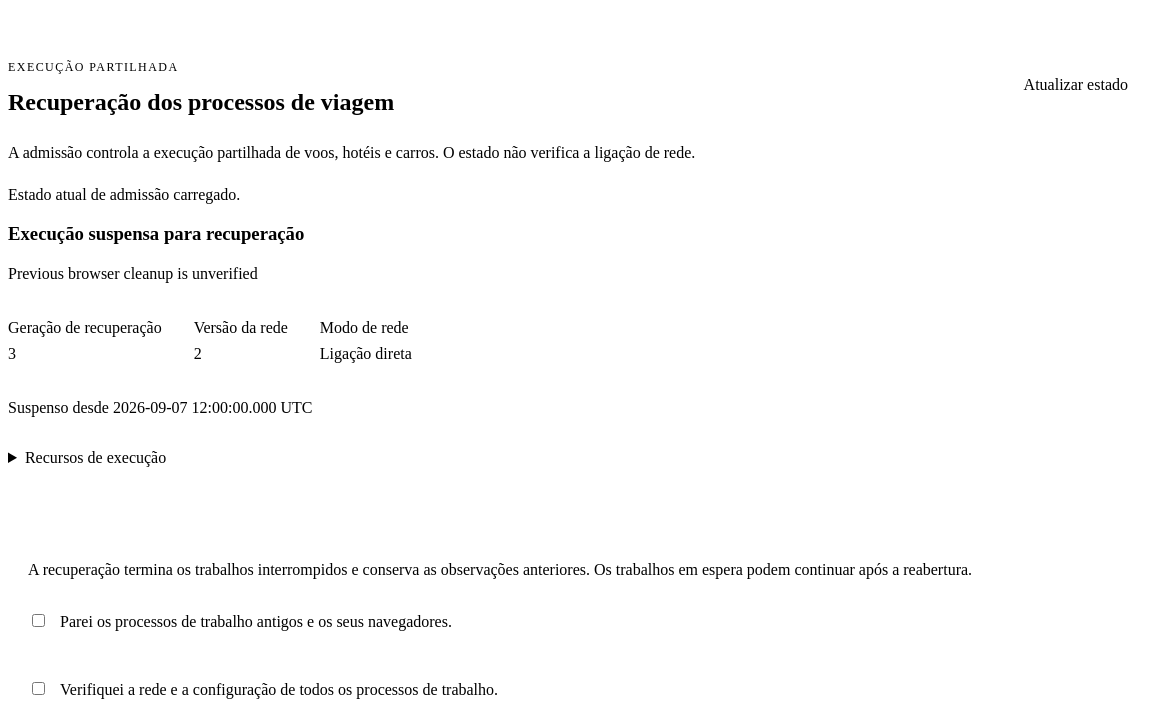
Test: explicit administrator travel recovery › requires both operator checks in pt and submits only the current generation
Expected: the heading "Execução suspensa para recuperação" is shown, [8,223,304,244]
Click the checkbox labelled "Parei os processos de trabalho antigos e os seus navegadores.".
click(38, 621)  # box [32,614,45,627]
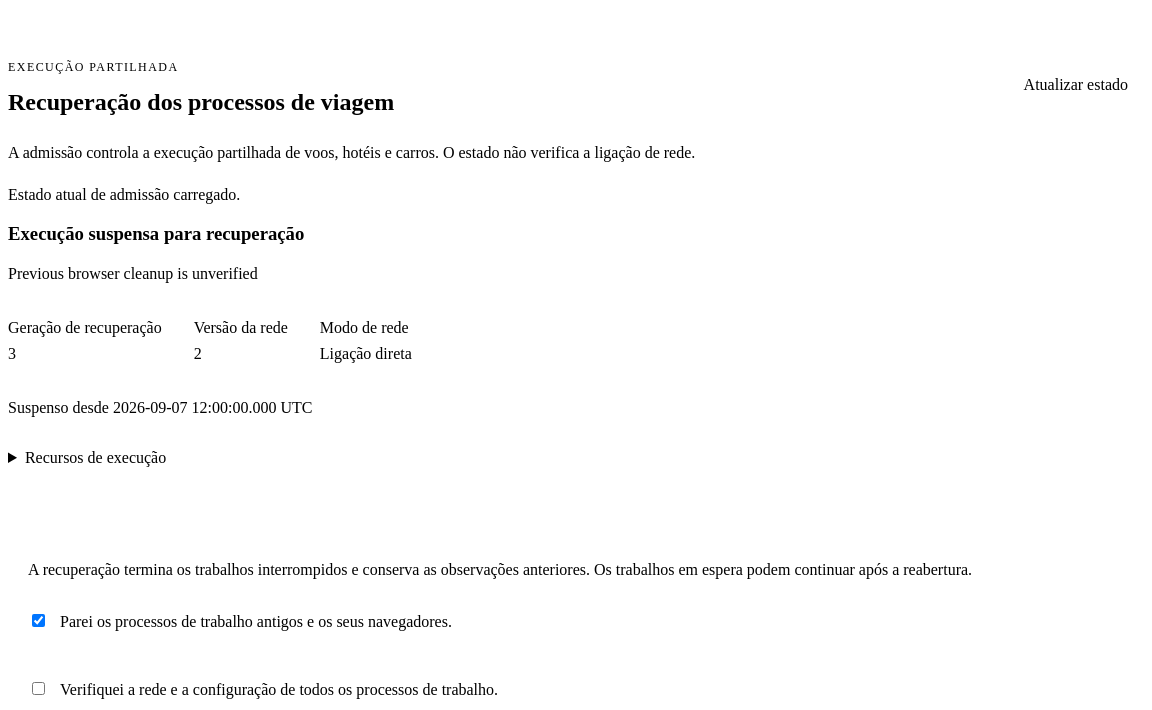
Click the checkbox labelled "Verifiquei a rede e a configuração de todos os processos de trabalho.".
click(38, 689)  # box [32,682,45,695]
(page scrolled)
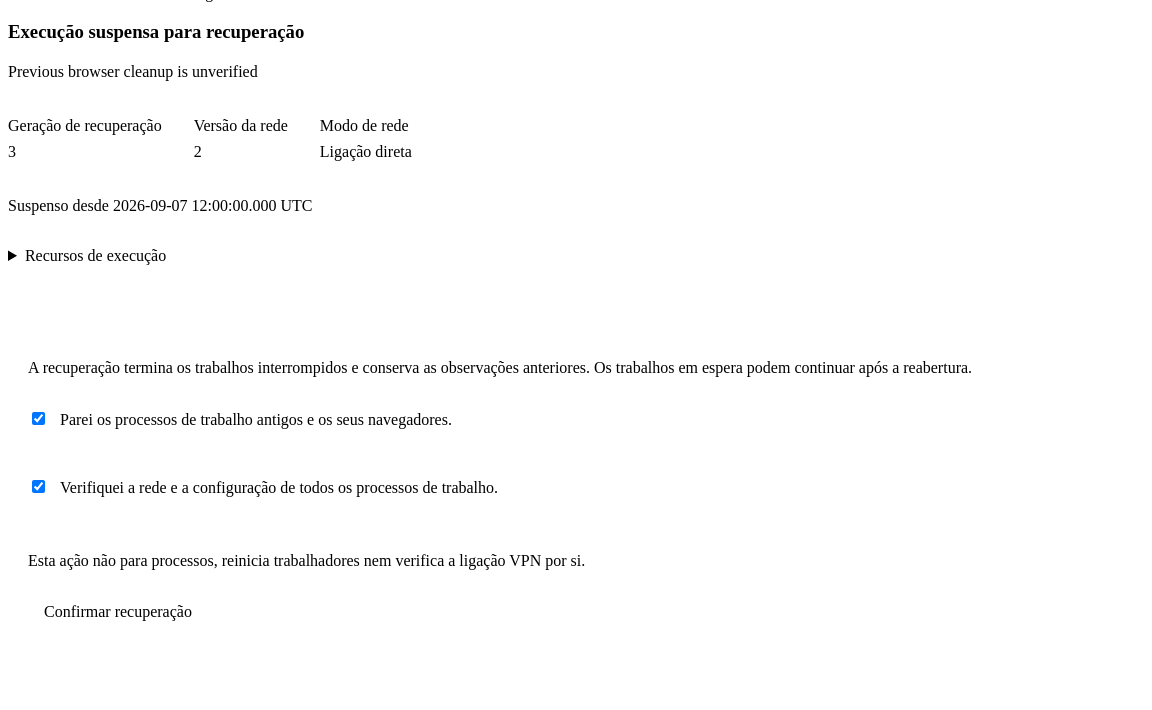
Click the button "Confirmar recuperação".
click(118, 612)  # box [28,590,208,634]
(page scrolled)
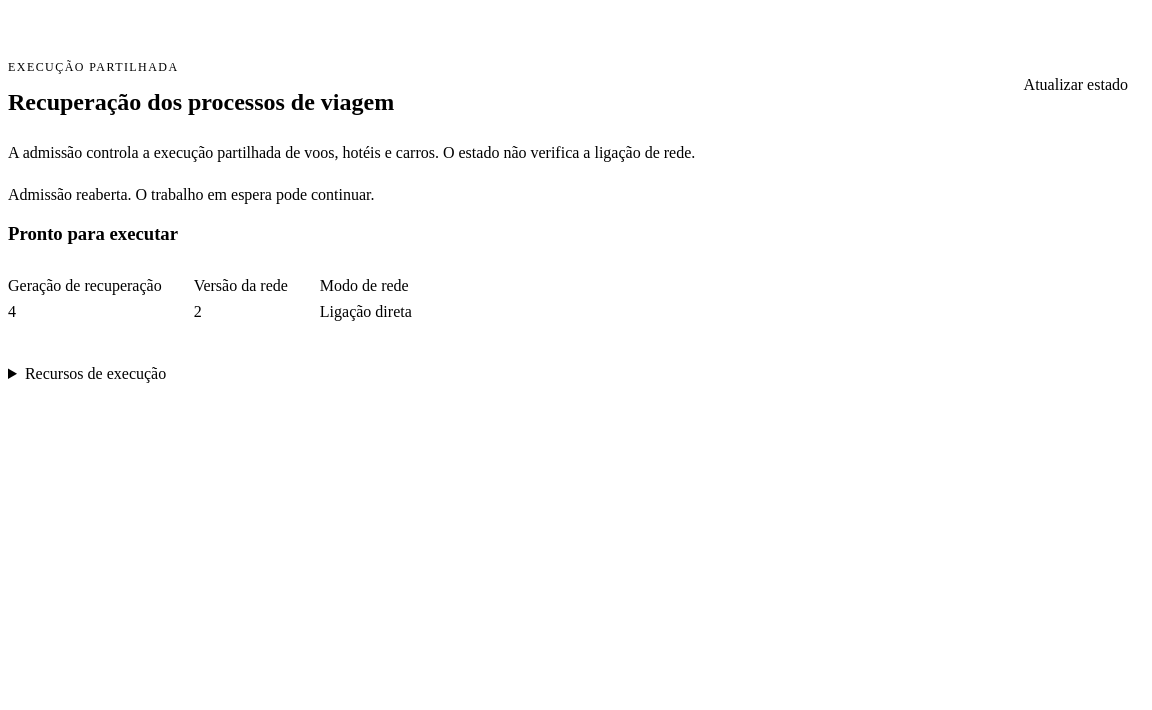
Expected: the text "Admissão reaberta. O trabalho em espera pode continuar." is shown, [8,186,374,203]
Expected: the checkbox is gone
